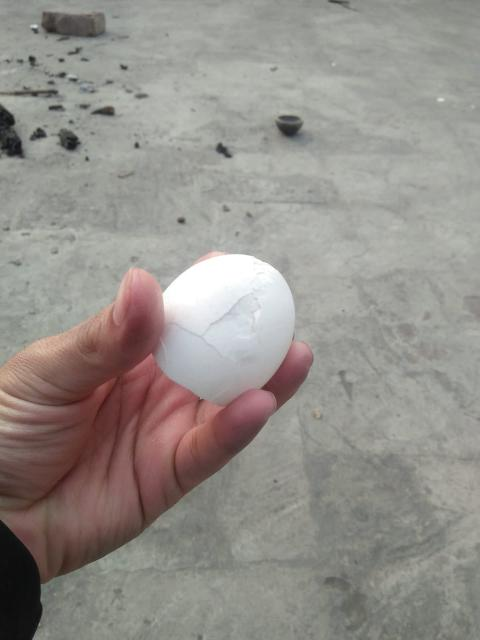Roto: (150, 252, 296, 407)
